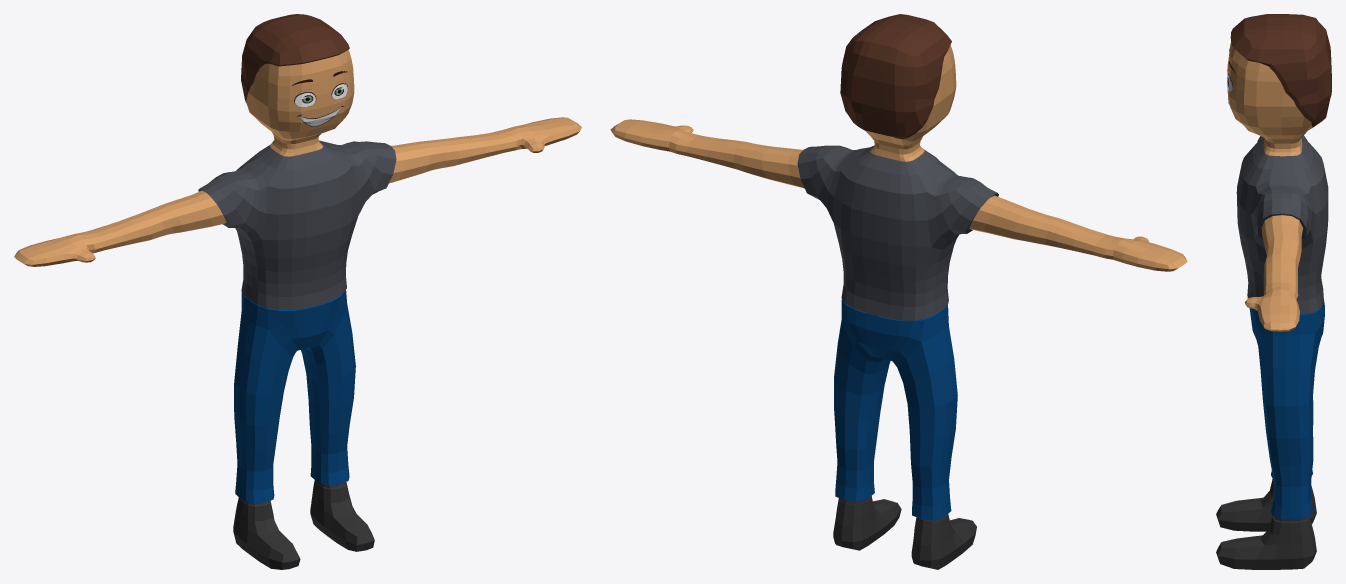
The model's file is chell11_uv 1.fbx.
The picture shows the model from 3 angles, left to right: view 1: azimuth 30°, elevation 25°; view 2: azimuth 150°, elevation 25°; view 3: azimuth 270°, elevation 25°; orthographic projection.
Parts seen in each view (by area): view 1: Character.001; view 2: Character.001; view 3: Character.001.
Boxes of the visible parts, box(x1,y1,x2,y2) form: Character.001: box(14, 14, 581, 569); Character.001: box(610, 14, 1187, 569); Character.001: box(1216, 14, 1331, 569).
Bounding box in the file's own units: 301 × 265 × 53.17.
